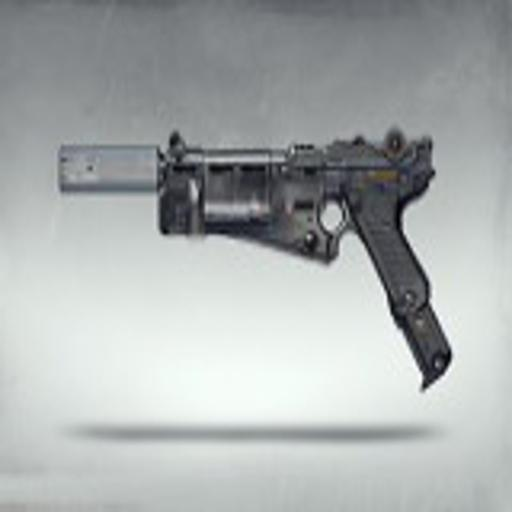Handgun: (56, 127, 453, 391)
